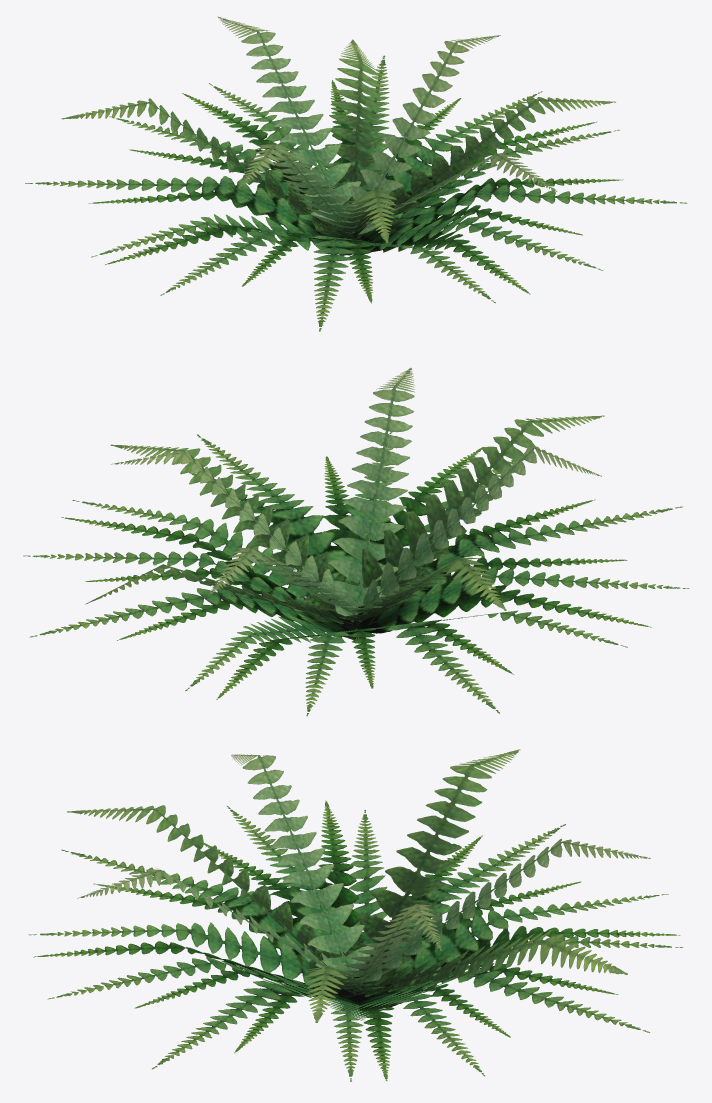
Rendered from frst_fern_green_a2_l1.fbx.
The picture shows the model from 3 angles, top to bottom: view 1: azimuth 30°, elevation 25°; view 2: azimuth 150°, elevation 25°; view 3: azimuth 270°, elevation 25°; orthographic projection. The views are drawn at different scales.
Visible parts, largest first — view 1: mesh_node; view 2: mesh_node; view 3: mesh_node.
Boxes of the visible parts, x1,y1,x2,y2 form: mesh_node: (25,16,687,331); mesh_node: (23,368,689,716); mesh_node: (28,749,683,1081).
Size of the model in its own units: 2.96 by 0.9223 by 2.93.
